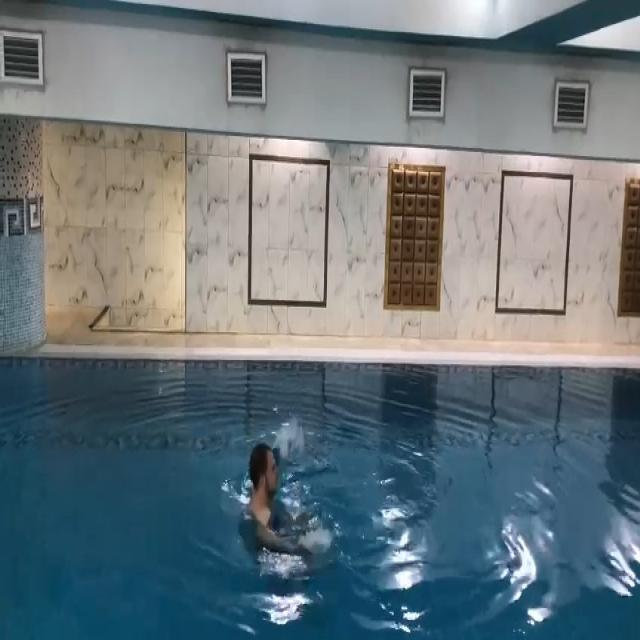Drowning: (236, 435, 333, 561)
